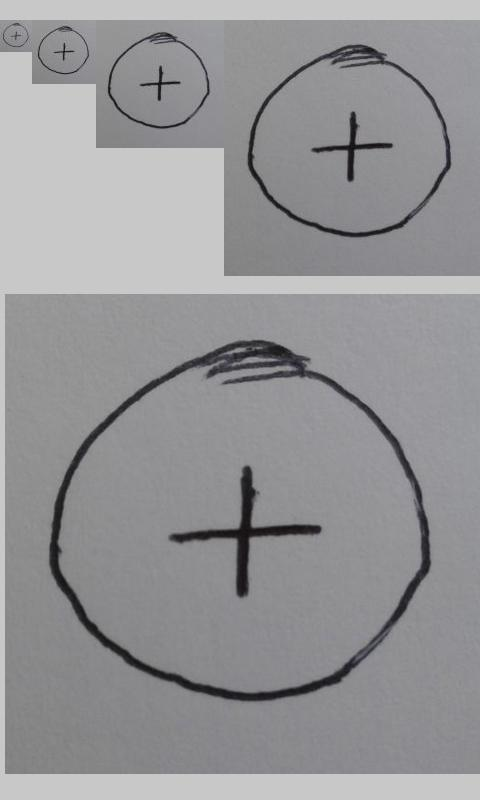button: (47, 336, 433, 706), (246, 43, 452, 238), (107, 31, 210, 129), (37, 26, 89, 75), (2, 23, 29, 48)
